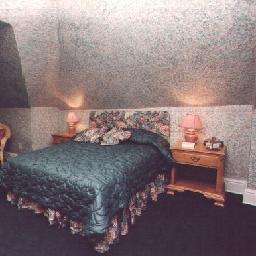Cama: (7, 128, 161, 224)
